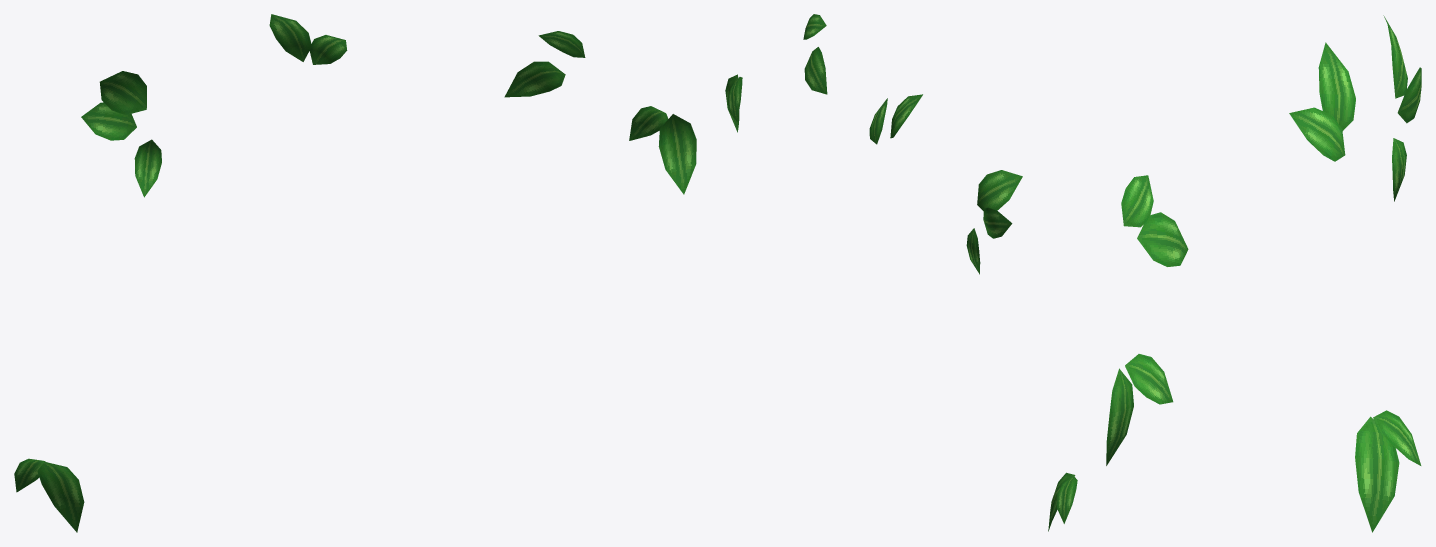
Rendered from EKH_BARRELROOM_PS_JA1_LEAVES039387.fbx.
The picture shows the model from 3 angles, left to right: view 1: azimuth 30°, elevation 25°; view 2: azimuth 150°, elevation 25°; view 3: azimuth 270°, elevation 25°; orthographic projection. The views are drawn at different scales.
Parts seen in each view (by area): view 1: EKH_BARRELROOM_PS_JA1_LEAVES039387; view 2: EKH_BARRELROOM_PS_JA1_LEAVES039387; view 3: EKH_BARRELROOM_PS_JA1_LEAVES039387.
Part boxes in pixels (box(x1,y1,x2,y2)): EKH_BARRELROOM_PS_JA1_LEAVES039387: box(14, 14, 696, 532); EKH_BARRELROOM_PS_JA1_LEAVES039387: box(725, 14, 1077, 531); EKH_BARRELROOM_PS_JA1_LEAVES039387: box(1106, 15, 1421, 532).
Bounding box in the file's own units: 23578 × 19813 × 9536.
Materials: 1 (1 with a texture image).
